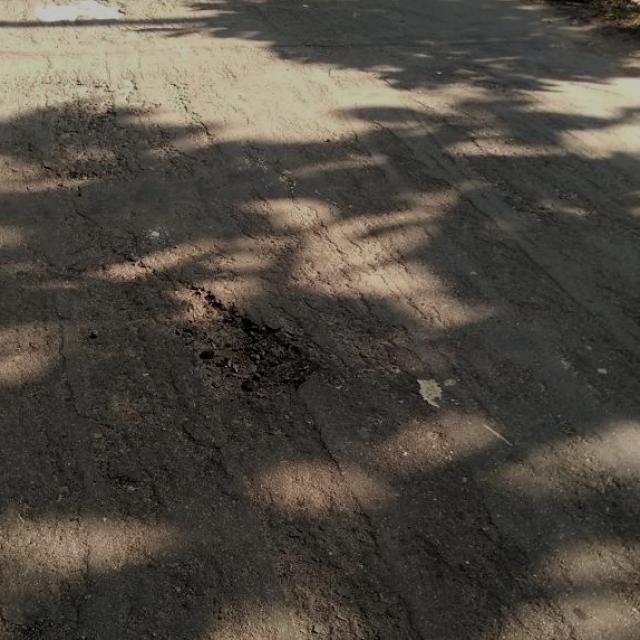road-pothole: (169, 287, 323, 398)
